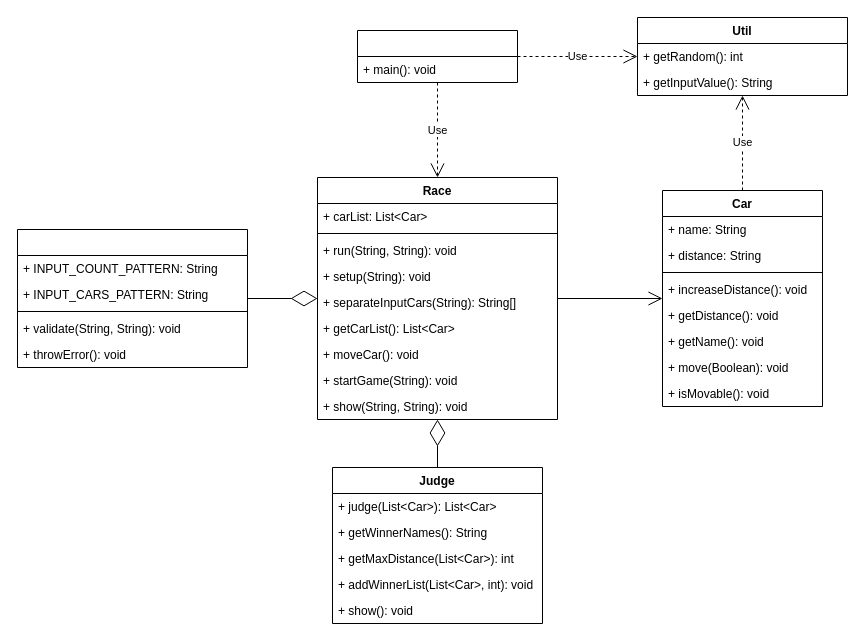
This 865x644 diagram has some shape labels left out. The shapes that lost their labels are listed below. From the top down, each one's box as (x1, y1, x2, y2) in pixels, then its label:
(356, 30, 518, 82): Application
(16, 228, 248, 368): Validator
